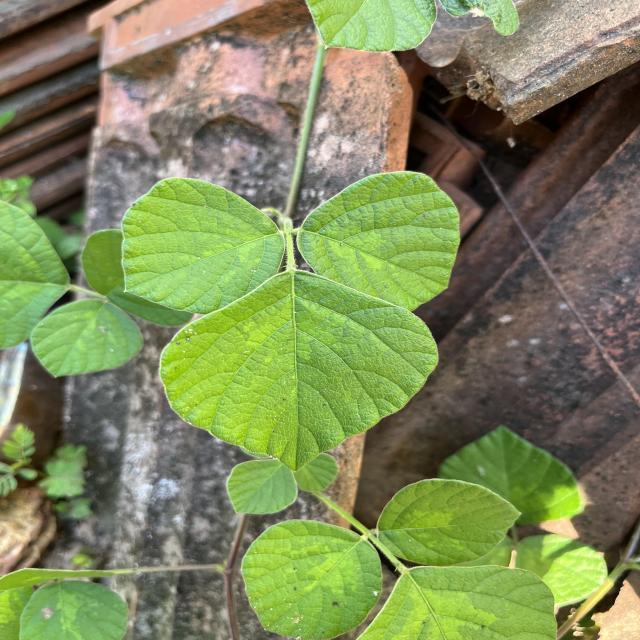Pseudarthria viscida: (119, 168, 464, 474)
